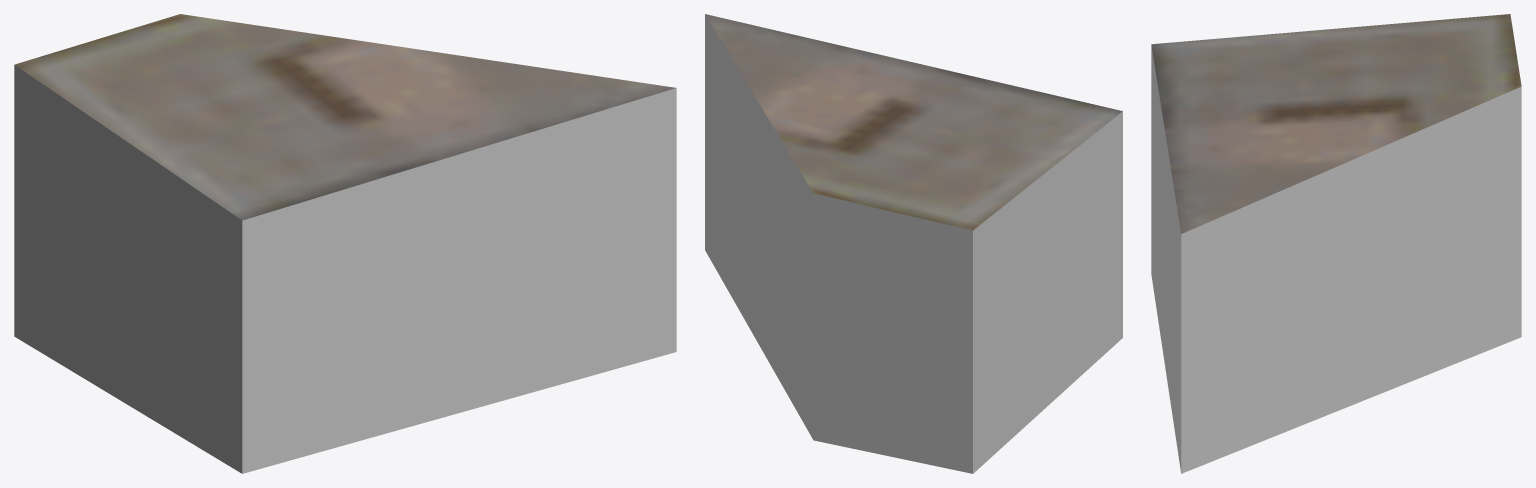
File: DEBW_0010007Txiy.gltf
The picture shows the model from 3 angles, left to right: view 1: azimuth 30°, elevation 25°; view 2: azimuth 150°, elevation 25°; view 3: azimuth 270°, elevation 25°; orthographic projection. The views are drawn at different scales.
Visible parts, largest first — view 1: Z_UP; view 2: Z_UP; view 3: Z_UP.
Part boxes in pixels (<box>): Z_UP: <box>14,14,676,473</box>; Z_UP: <box>705,14,1122,473</box>; Z_UP: <box>1151,14,1521,473</box>.
Size of the model in its own units: 8.1 by 4.44 by 5.95.
Materials: 2 (1 with a texture image).
